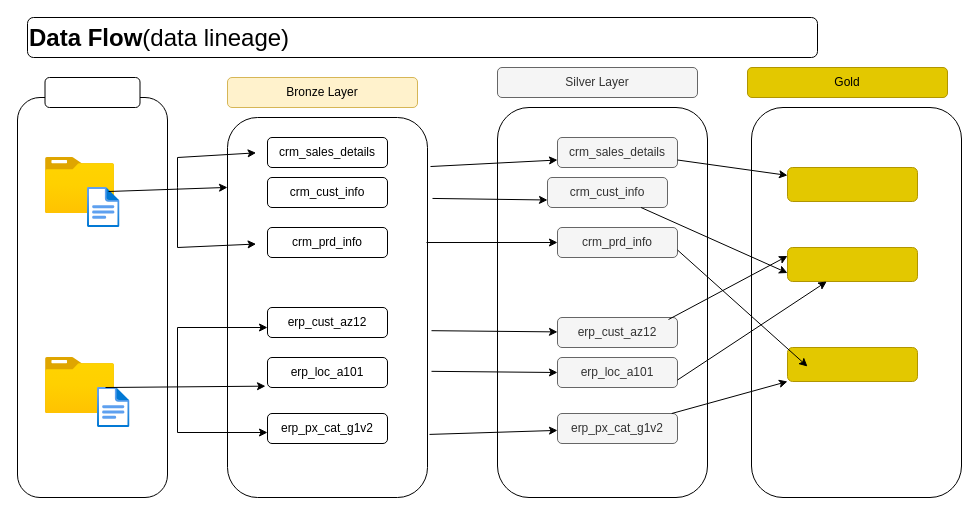
Some shapes in this 979 by 515 pixel diagram are drawn without their labels. Each missing label, with the centre of its shape:
"By Owen M" goes at (x=422, y=37).
"dim_customers" goes at (x=852, y=264).
"dim_products" goes at (x=852, y=364).
"fact_sales" goes at (x=852, y=184).
"Sources" goes at (x=92, y=92).
